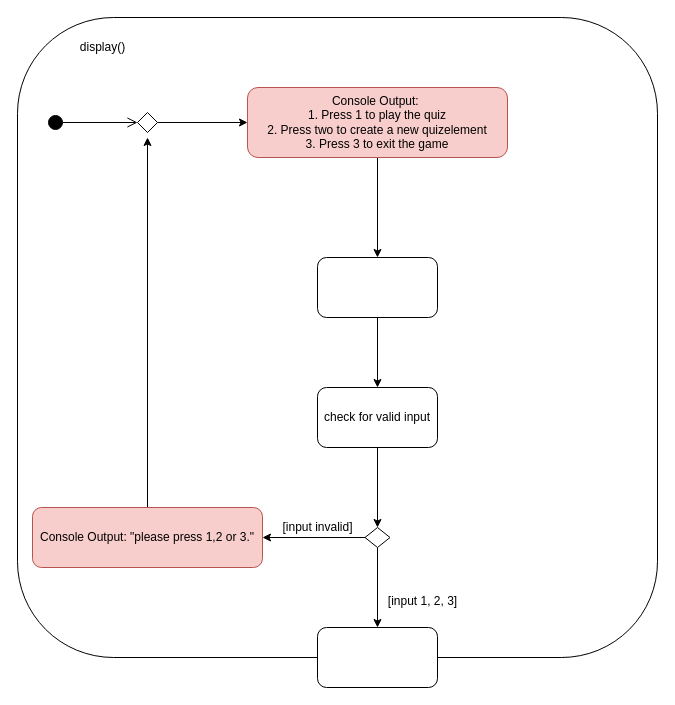
The diagram is 675 pixels wide and 705 high, and some of its shapes have lost their labels. The centre of each missing label's shape, as x and y in pixels:
"convert input to int" belongs at pixel 377 657.
"get user input" belongs at pixel 377 287.
